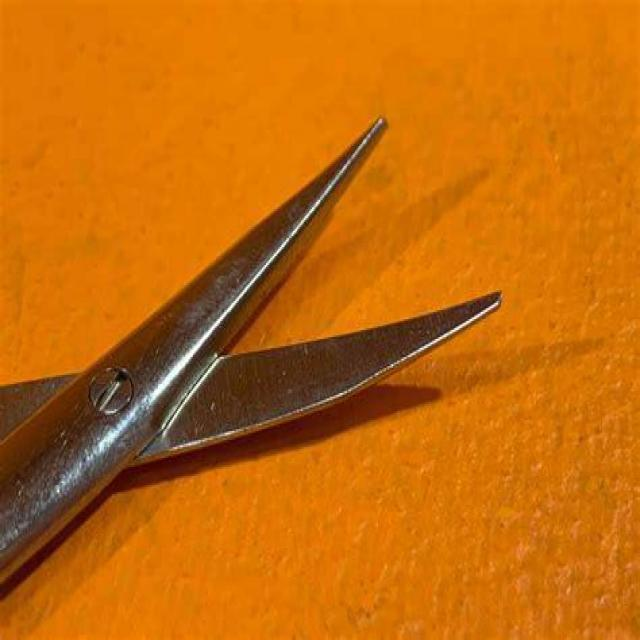Iris: (4, 106, 509, 590)
